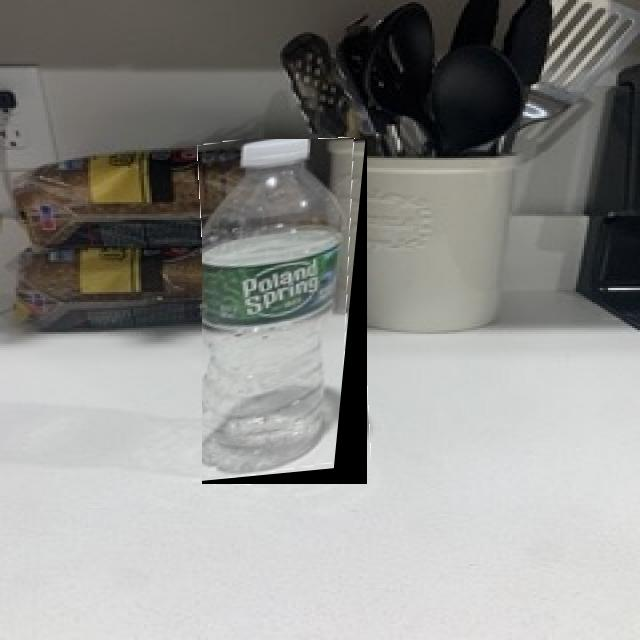water_bottle: (202, 139, 367, 484)
